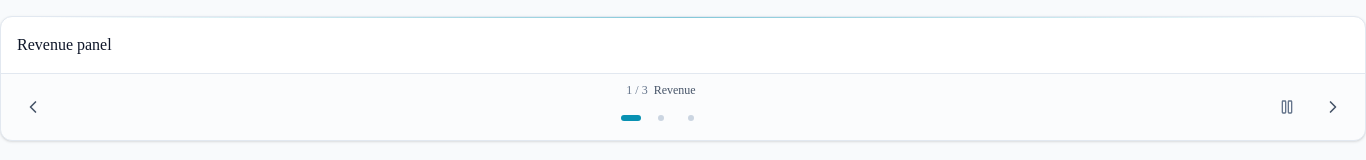
Test: Carousell › resumes autoplay after the pause control is toggled
Step 1. Click the button named "Pause autoplay" → [1287, 106], box [1269,88,1305,124]
Wait 2000 ms
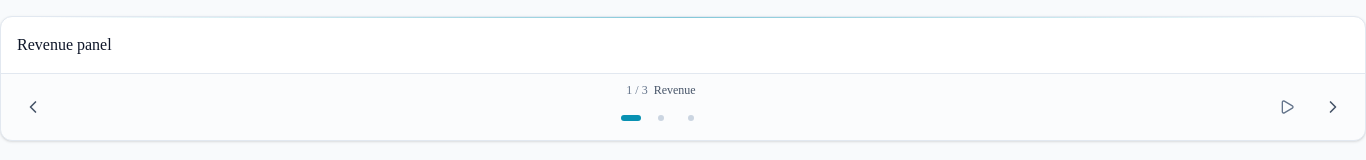
Check: the element named "1 of 3: Revenue" is shown, box [17,36,112,52]
Step 2. Click the button named "Resume autoplay" → [1287, 106], box [1269,88,1305,124]
Wait 1000 ms
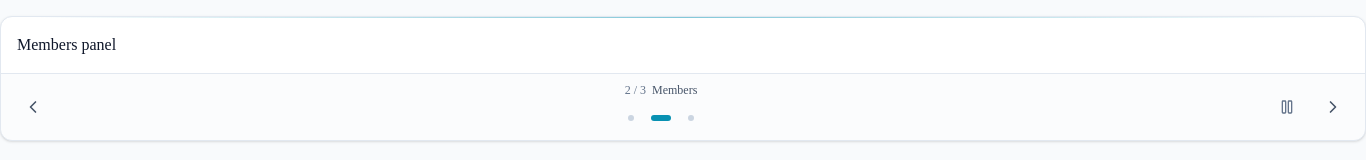
Check: the element named "2 of 3: Members" is shown, box [17,36,116,52]
